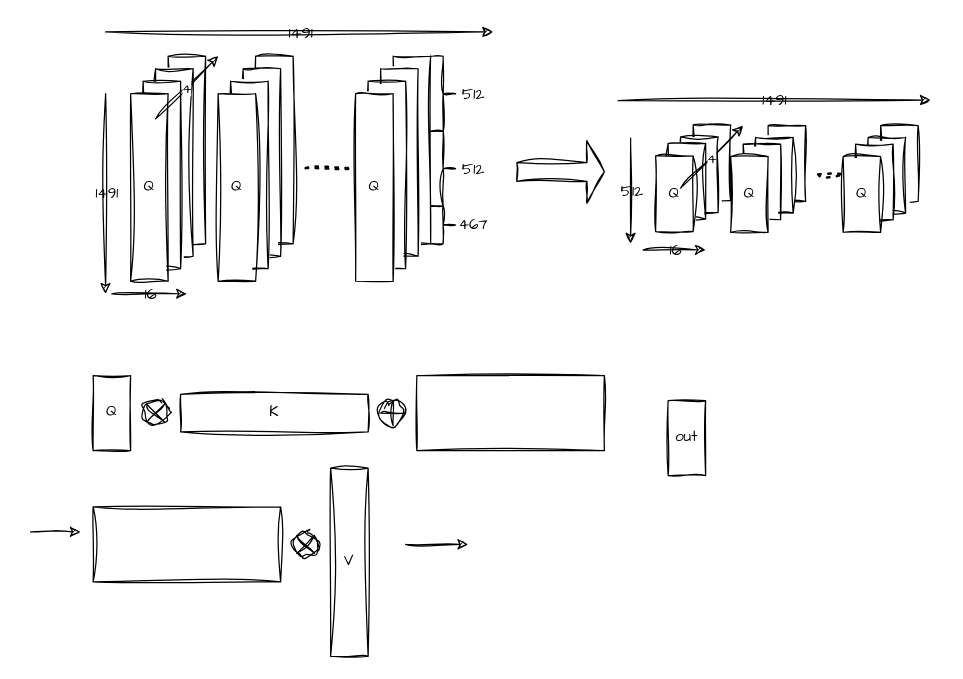
This 963x679 diagram has some shape labels left out. The centre of each missing label's shape, as x and y in pixels:
"bias" goes at point 510,412.
"logits" goes at point 186,544.
"slice" goes at point 560,171.
